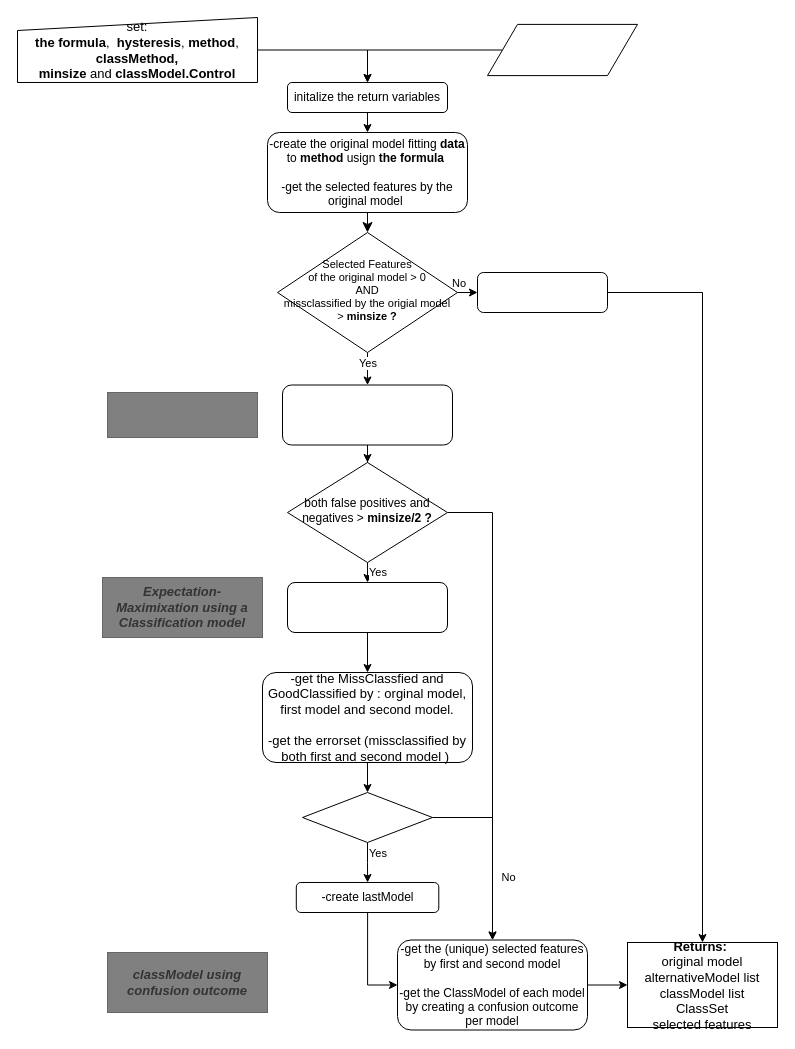
Image size: 795x1049. Some labels were removed from this diagram. Here are the shapes that lost their labels. From the top down, the box of each, then its label:
(486, 23, 638, 76): Input data: M observations N features
(476, 272, 608, 312): return default values for the return variables
(106, 392, 258, 438): Confusion matrix using Hysteresis penalization
(282, 384, 452, 445): -get the confusion matrix with Hysteresis penalization of original model
(286, 582, 448, 632): -convergence of FirstModel and SecondModel by E-M
(302, 792, 432, 842): errorset > minsize?
